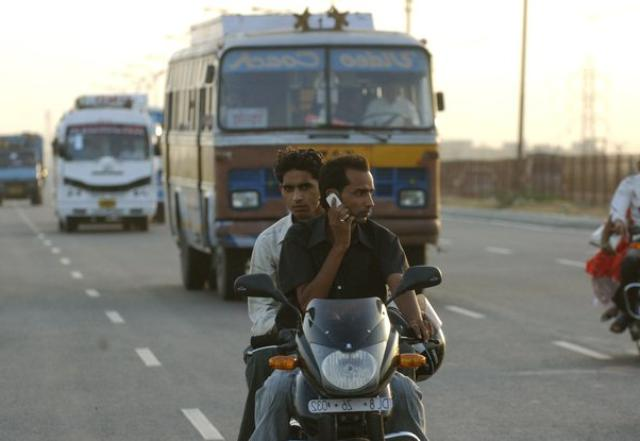licensePlate: (303, 392, 392, 421)
motorcycle: (232, 141, 445, 441)
withoutHelmet: (319, 153, 372, 226), (276, 147, 316, 221)
